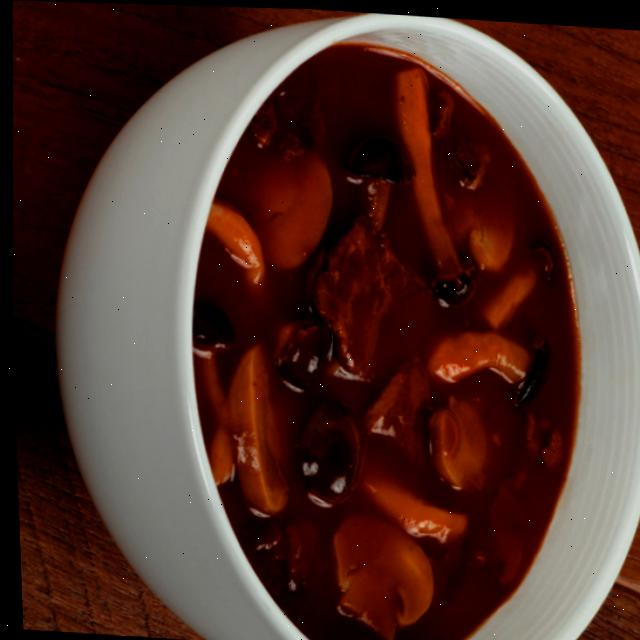汤锅炖物: (27, 1, 640, 640)
